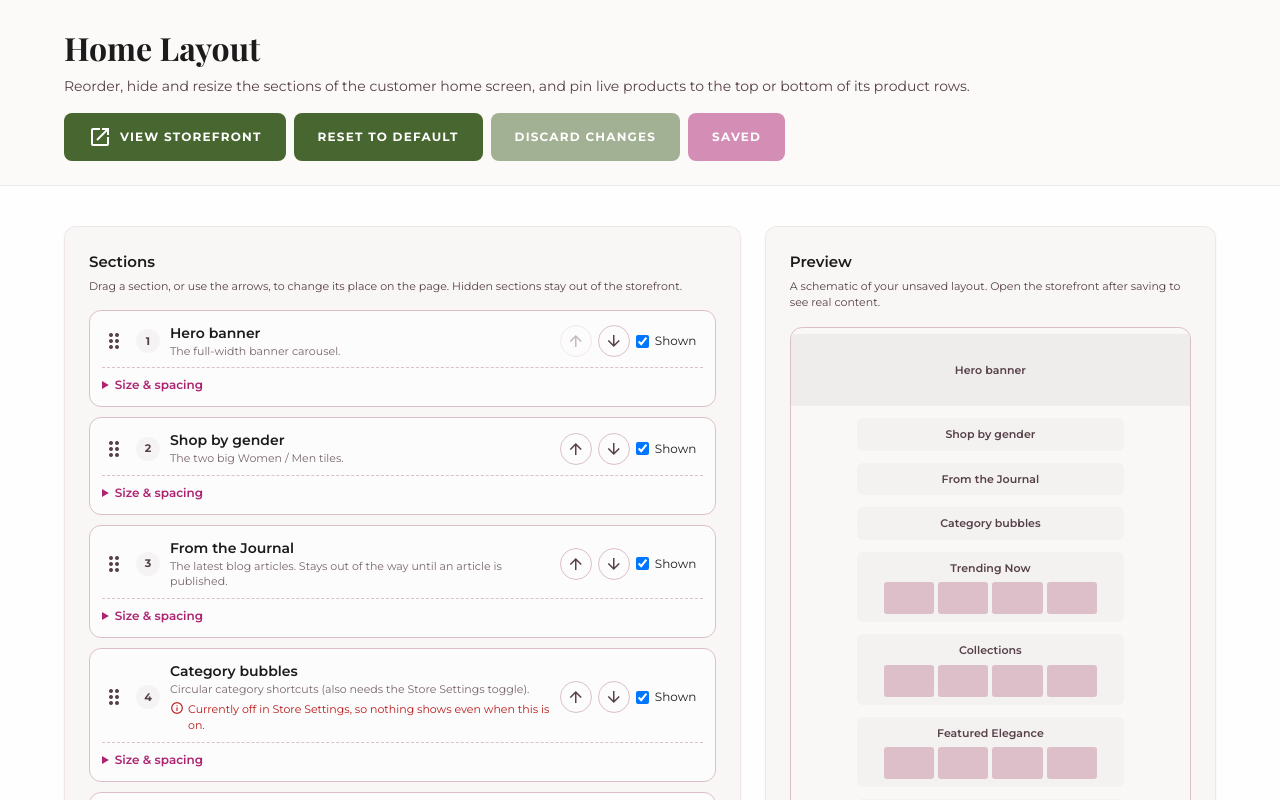
Scenario: AdminHomeLayoutPage › starts with Save disabled and enables it after an edit
The image size is (1280, 800).
Expected: the button "Saved" is disabled, top-left (688, 113), bottom-right (785, 161)
Click the button named "Move Hero banner down" at (614, 341), box top-left (598, 325), bottom-right (630, 357)
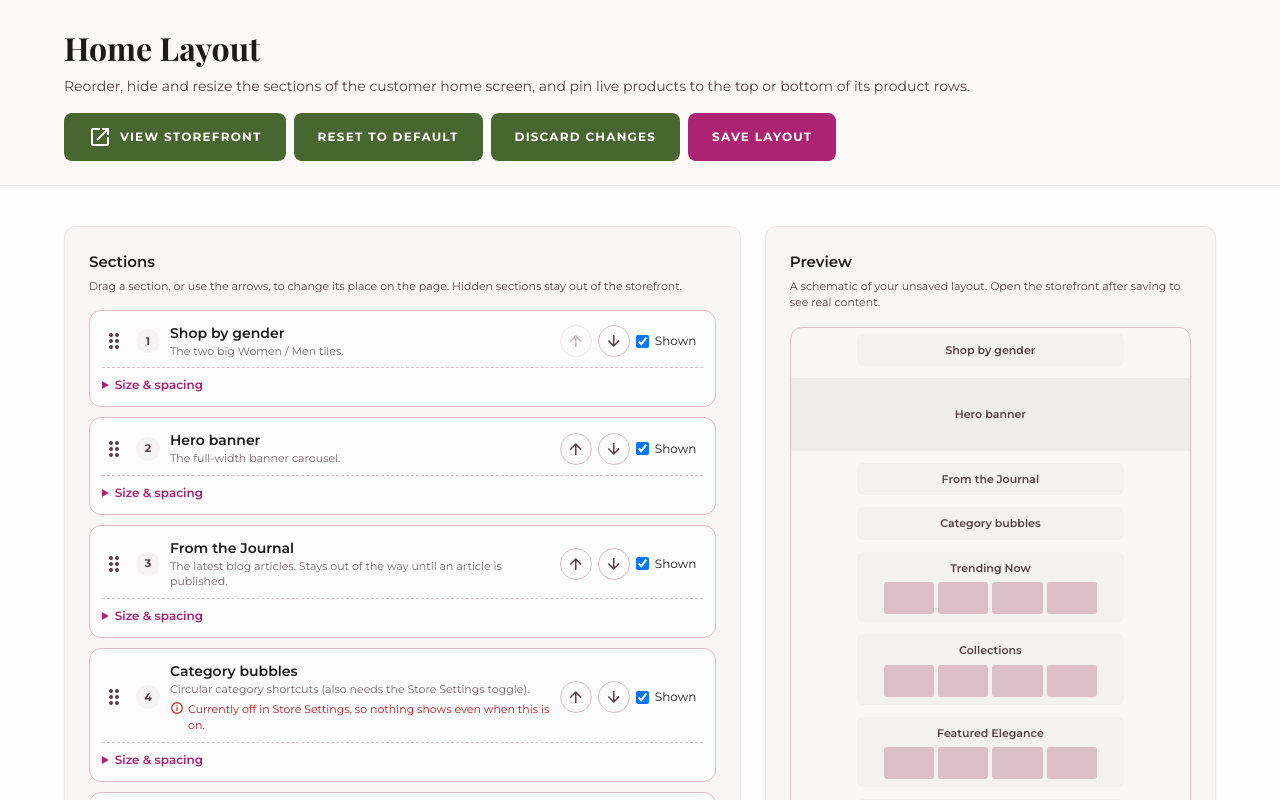
Expected: the button "Save layout" is enabled, top-left (688, 113), bottom-right (836, 161)
